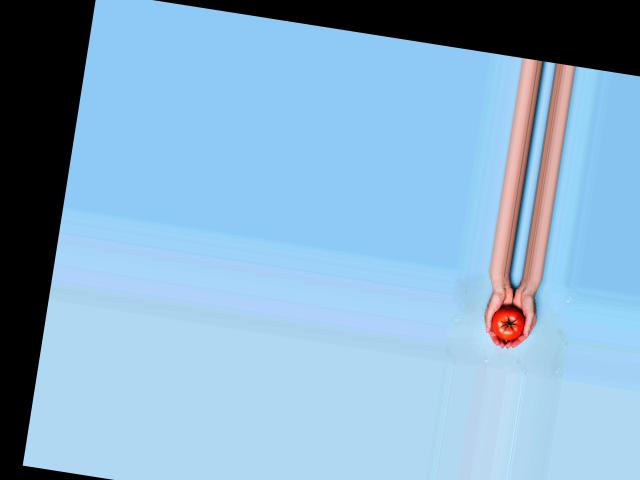tomato: (489, 304, 527, 342)
